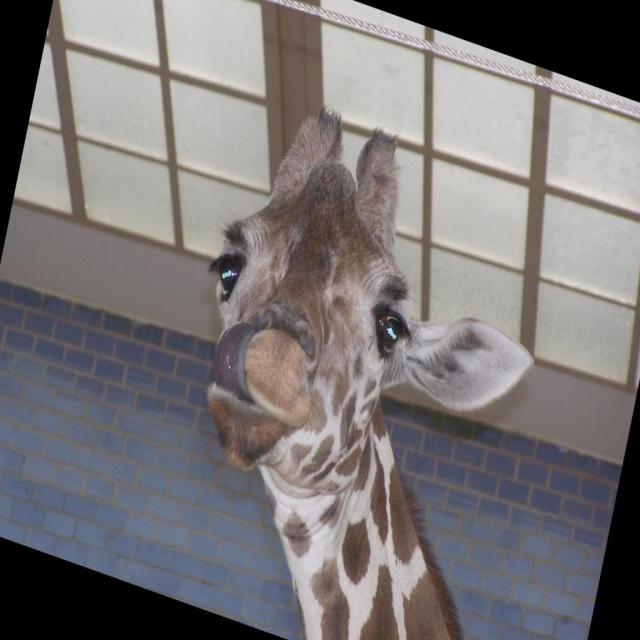Giraffe: (188, 90, 542, 640)
